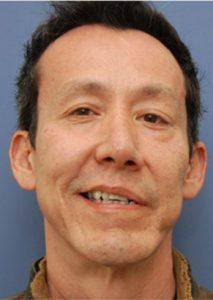strokeEyeWeak: (50, 78, 180, 136)
strokeMouthWeak: (60, 177, 160, 219)
